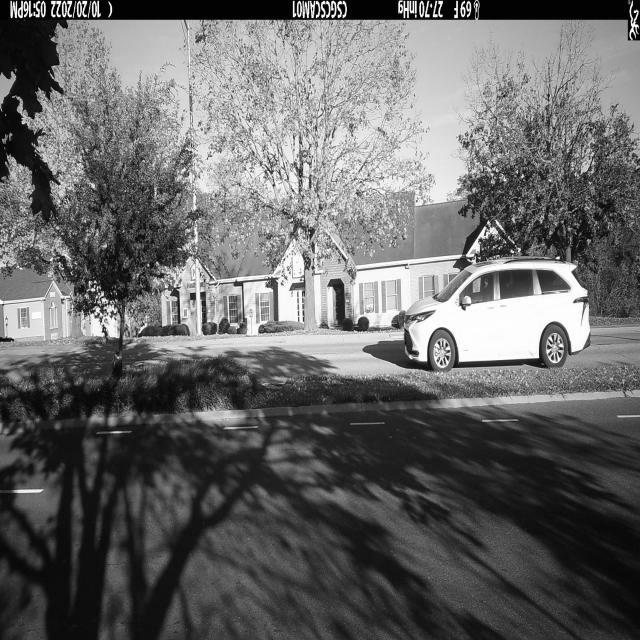Van: (405, 255, 593, 372)
